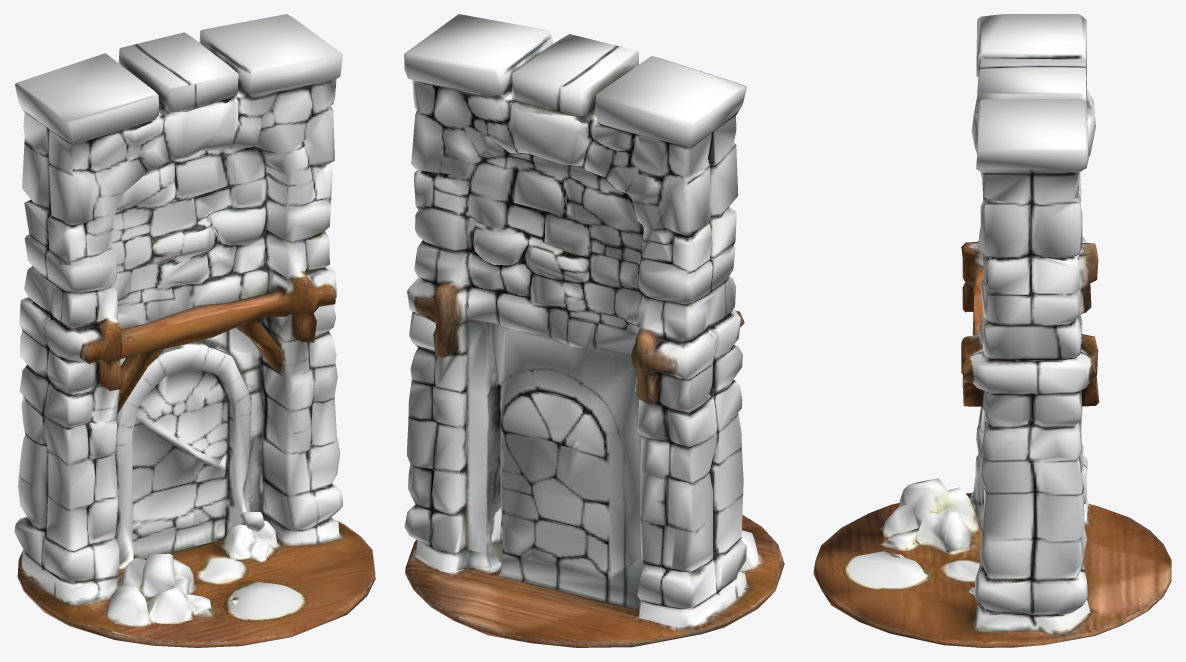
File: mine_gold.glb
The picture shows the model from 3 angles, left to right: view 1: azimuth 30°, elevation 25°; view 2: azimuth 150°, elevation 25°; view 3: azimuth 270°, elevation 25°; orthographic projection. The views are drawn at different scales.
Size of the model in its own units: 1.24 by 1.91 by 1.24.
1 material, 1 textured.
